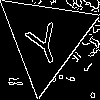Y: (20, 13, 66, 69)
